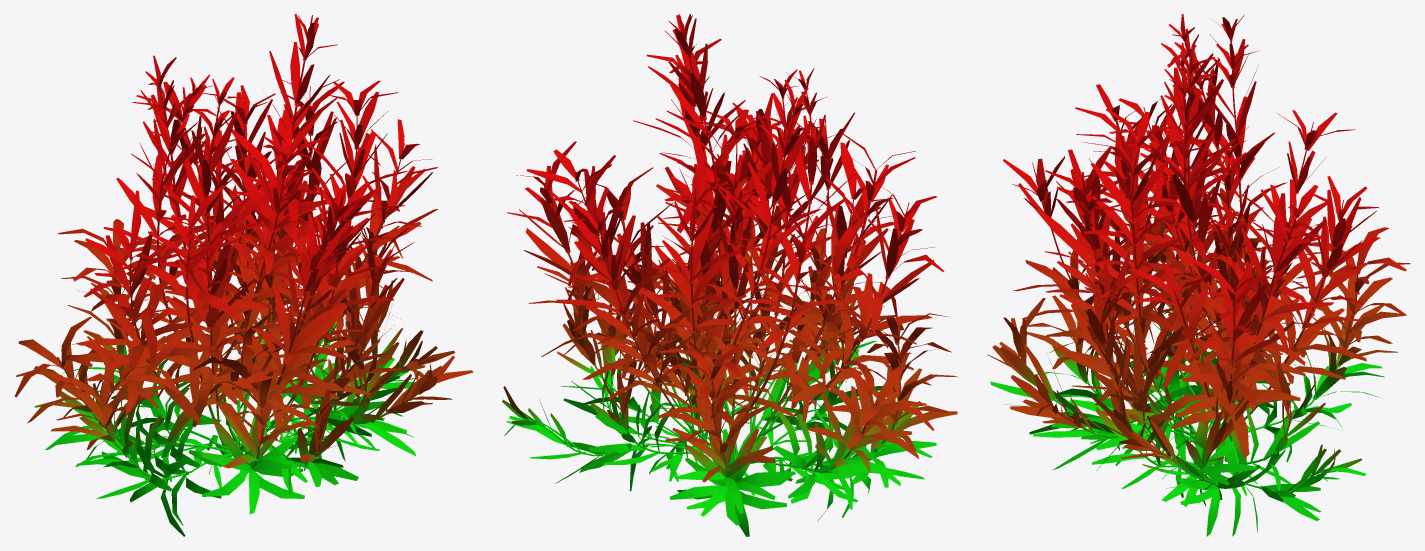
The model's file is Var2_LOD2.fbx.
3 renders of one model, left to right at view 1: azimuth 30°, elevation 25°; view 2: azimuth 150°, elevation 25°; view 3: azimuth 270°, elevation 25°, orthographic.
Visible parts, largest first — view 1: _5va3_Var2_LOD2; view 2: _5va3_Var2_LOD2; view 3: _5va3_Var2_LOD2.
Part boxes in pixels (<box>): _5va3_Var2_LOD2: <box>14,14,473,536</box>; _5va3_Var2_LOD2: <box>502,14,958,536</box>; _5va3_Var2_LOD2: <box>987,14,1410,536</box>.
Size of the model in its own units: 26.78 by 29.3 by 23.36.
